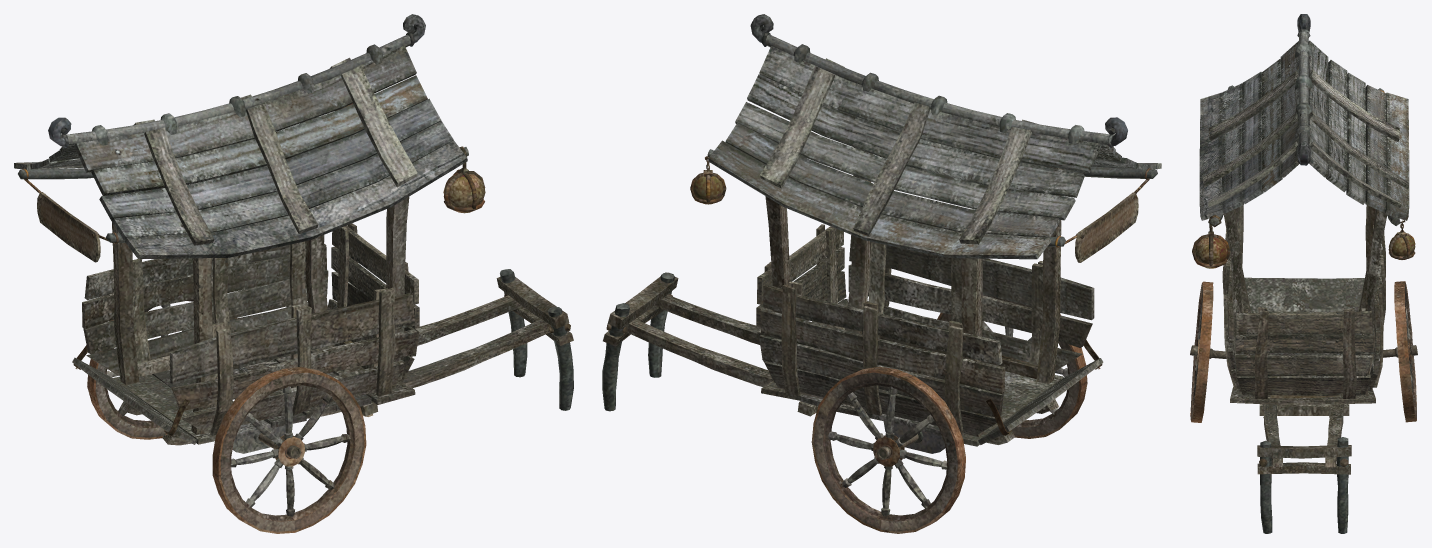
The model's file is medieval_cart.obj.
The picture shows the model from 3 angles, left to right: view 1: azimuth 30°, elevation 25°; view 2: azimuth 150°, elevation 25°; view 3: azimuth 270°, elevation 25°; orthographic projection. The views are drawn at different scales.
Size of the model in its own units: 2.58 by 2.09 by 1.23.
